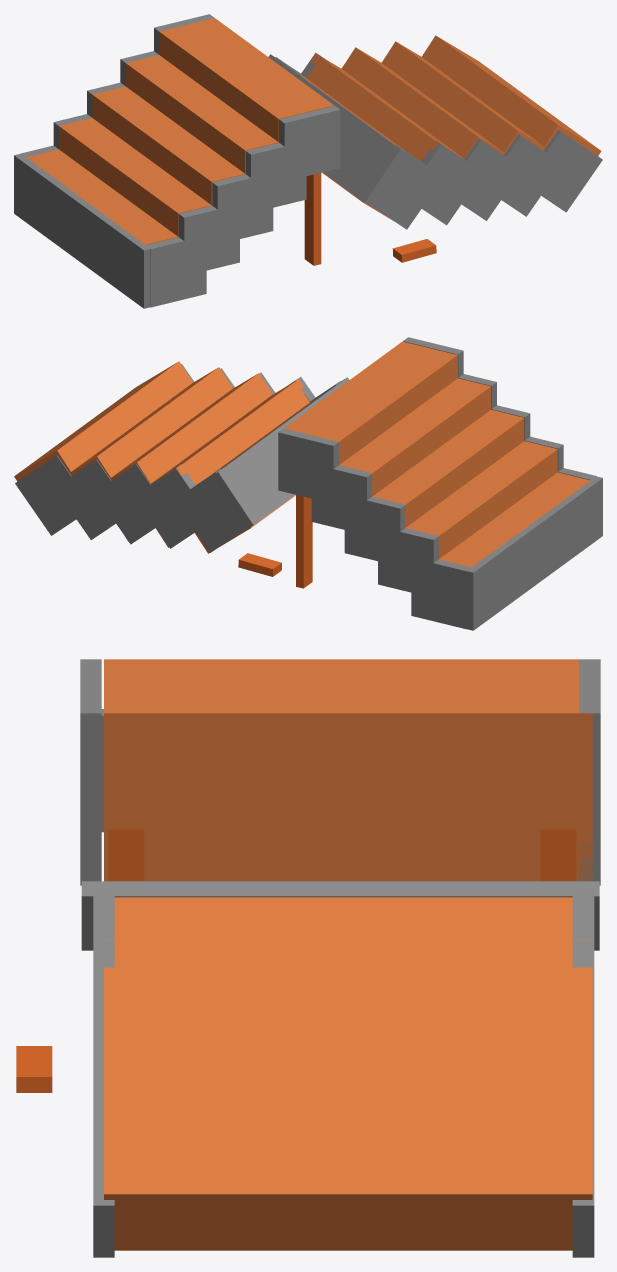
The model's file is Broken Ladder.fbx.
3 views of the same model, one above another, from view 1: azimuth 30°, elevation 25°; view 2: azimuth 150°, elevation 25°; view 3: azimuth 270°, elevation 25° (orthographic). The views are drawn at different scales.
Parts seen in each view (by area): view 1: Cube, Cube.003, Cube.006, Cube.010, Cube.008, Cube.011, Cube.007, Cube.002, Cube.005; view 2: Cube, Cube.003, Cube.007, Cube.009, Cube.008, Cube.011, Cube.006, Cube.001, Cube.004, Cube.010; view 3: Cube.003, Cube, Cube.011, Cube.010, Cube.006, Cube.009, Cube.007, Cube.001, Cube.002, Cube.005.
Boxes of the visible parts, bbox=[...] form: Cube: bbox=[27, 18, 334, 244]; Cube.003: bbox=[296, 35, 601, 220]; Cube.006: bbox=[146, 106, 340, 307]; Cube.010: bbox=[371, 130, 602, 229]; Cube.008: bbox=[14, 154, 150, 308]; Cube.011: bbox=[268, 54, 405, 205]; Cube.007: bbox=[20, 14, 214, 157]; Cube.002: bbox=[304, 173, 321, 265]; Cube.005: bbox=[392, 239, 436, 262]; Cube: bbox=[284, 341, 590, 566]; Cube.003: bbox=[14, 361, 320, 553]; Cube.007: bbox=[278, 428, 471, 629]; Cube.009: bbox=[15, 455, 247, 552]; Cube.008: bbox=[467, 476, 602, 630]; Cube.011: bbox=[213, 377, 349, 528]; Cube.006: bbox=[403, 337, 596, 479]; Cube.001: bbox=[296, 495, 312, 588]; Cube.004: bbox=[238, 553, 281, 576]; Cube.010: bbox=[181, 364, 340, 402]; Cube.003: bbox=[104, 897, 592, 1250]; Cube: bbox=[104, 659, 592, 881]; Cube.011: bbox=[81, 881, 599, 950]; Cube.010: bbox=[93, 890, 114, 1257]; Cube.006: bbox=[80, 659, 101, 885]; Cube.009: bbox=[572, 890, 594, 1257]; Cube.007: bbox=[579, 659, 600, 885]; Cube.001: bbox=[540, 829, 576, 881]; Cube.002: bbox=[108, 829, 144, 881]; Cube.005: bbox=[16, 1046, 52, 1092].
Bounding box in the file's own units: 1662 × 553 × 912.
